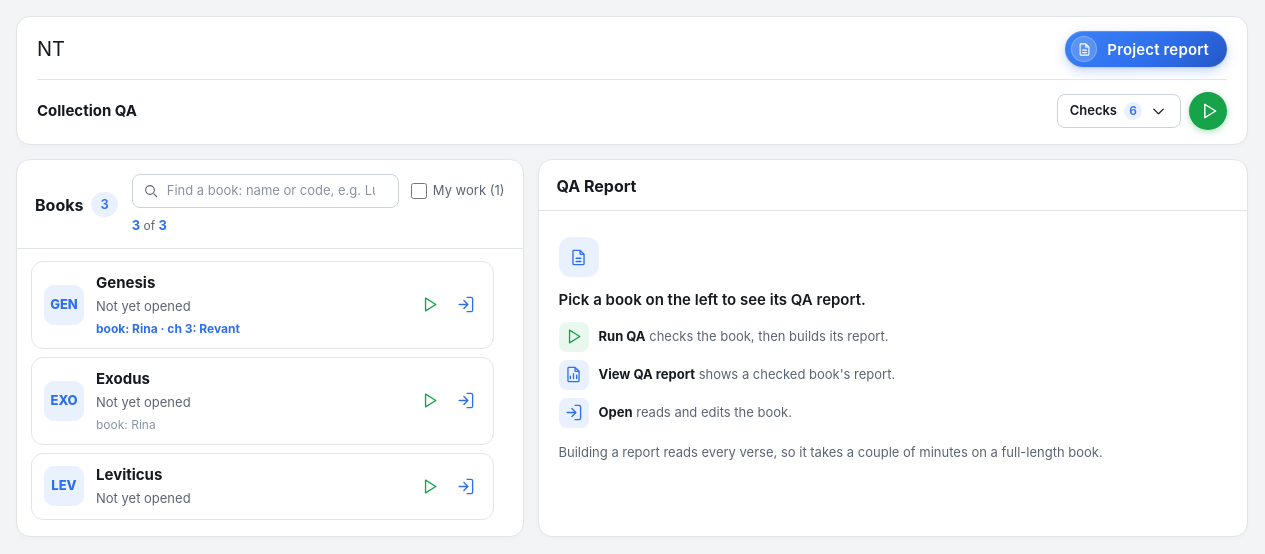
it: ProjectDashboard assignments (#240) › shows who each book is assigned to and filters to my work
Expected: the text "book: Rina · ch 3: Revant" is shown, 96,320 -> 240,336
Expected: the text "book: Rina" is shown, 96,416 -> 156,432
Click the checkbox labelled "My work (1)" at [419, 191], box 411,183 -> 427,199
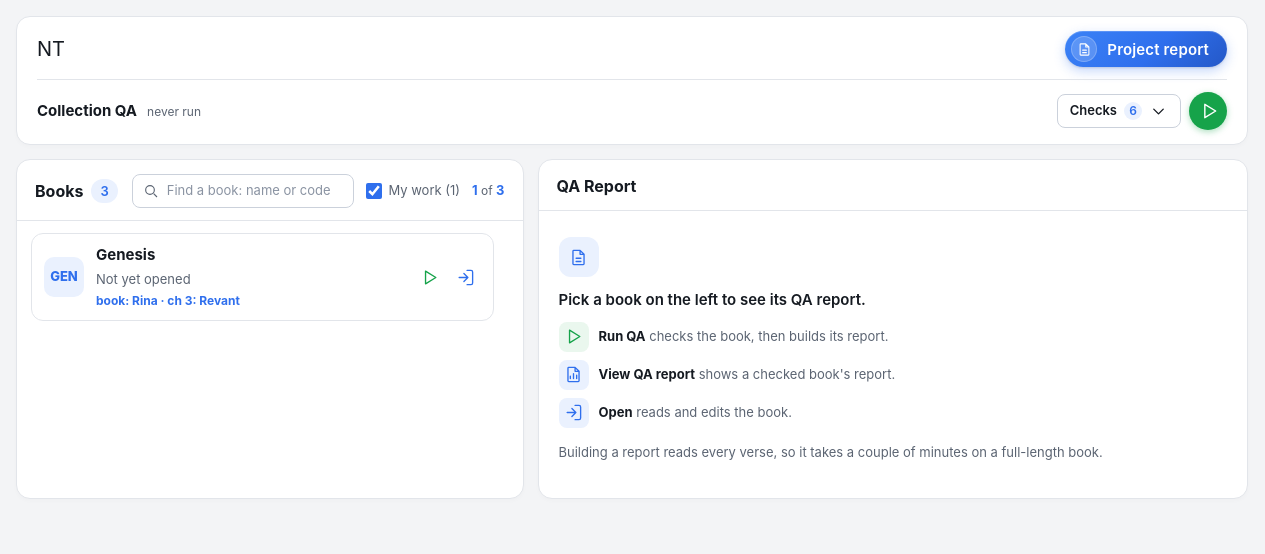
Result: the message reads "1 of 3" at 472,181 -> 504,201
Result: the text "Exodus" is gone
Result: the text "Leviticus" is gone
